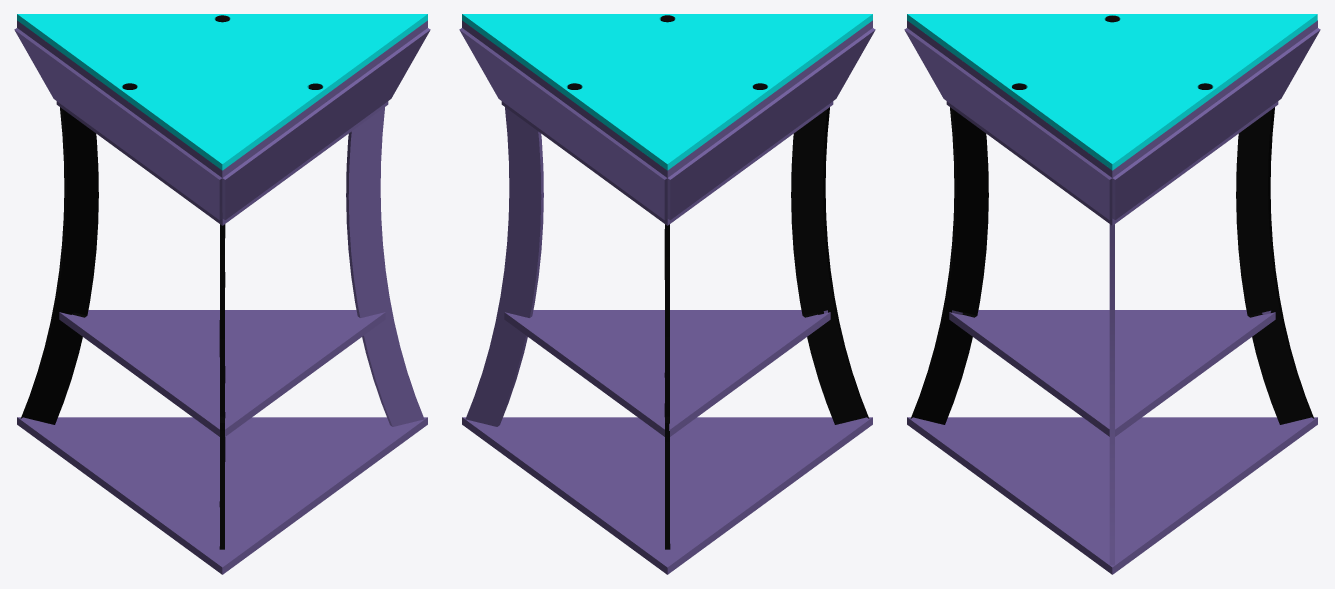
File: ergoflex-triangle-table.glb
3 views of the same model, side by side, from view 1: azimuth 30°, elevation 25°; view 2: azimuth 150°, elevation 25°; view 3: azimuth 270°, elevation 25° (orthographic).
Parts seen in each view (by area): view 1: Mesh_14, Mesh_0, Mesh_1; view 2: Mesh_14, Mesh_0, Mesh_1; view 3: Mesh_14, Mesh_0, Mesh_1.
Part boxes in pixels (<box>): Mesh_14: <box>14,20,430,574</box>; Mesh_0: <box>17,14,427,170</box>; Mesh_1: <box>20,15,322,549</box>; Mesh_14: <box>459,20,875,574</box>; Mesh_0: <box>462,14,872,170</box>; Mesh_1: <box>567,15,869,549</box>; Mesh_14: <box>904,20,1320,574</box>; Mesh_0: <box>907,14,1317,170</box>; Mesh_1: <box>910,15,1314,424</box>.
Bounding box in the file's own units: 0.5885 × 0.74 × 0.6795.
